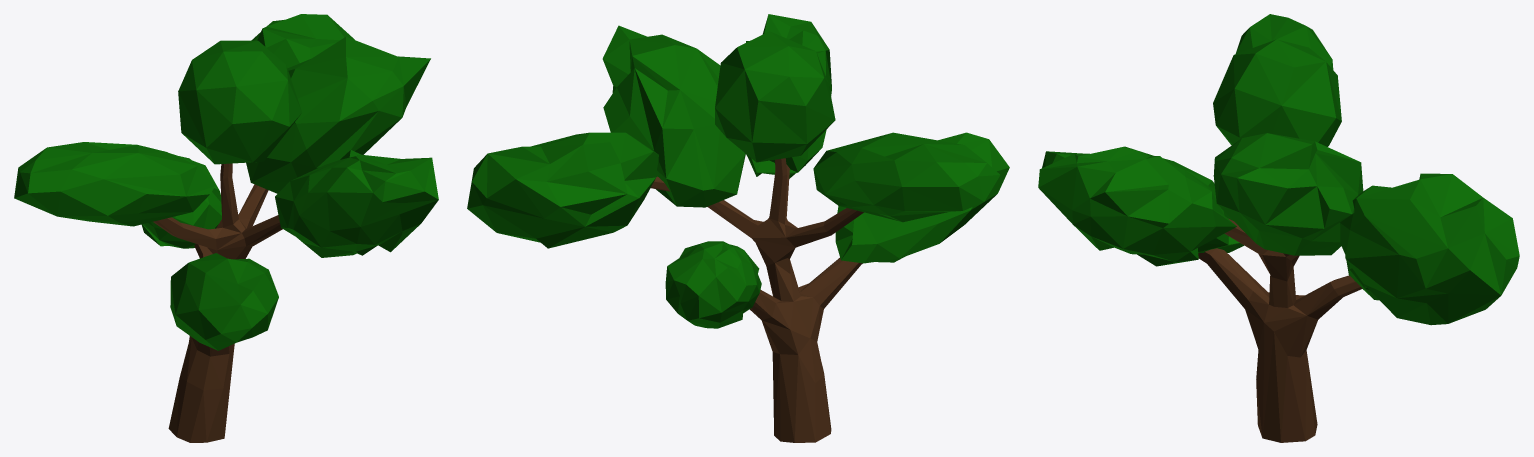
The model's file is Tree1.fbx.
The picture shows the model from 3 angles, left to right: view 1: azimuth 30°, elevation 25°; view 2: azimuth 150°, elevation 25°; view 3: azimuth 270°, elevation 25°; orthographic projection. The views are drawn at different scales.
Visible parts, largest first — view 1: Icosphere.001, Icosphere, Sphere, Icosphere.002, Tree, Icosphere.004, Icosphere.003, Sphere.001; view 2: Icosphere.003, Icosphere.001, Tree, Icosphere, Icosphere.002, Sphere.001, Icosphere.004, Sphere; view 3: Icosphere.003, Sphere, Icosphere.001, Tree, Icosphere.002, Icosphere, Icosphere.004.
Part boxes in pixels (box(x1,y1,x2,y2)): Icosphere.001: box(246, 37, 430, 193); Icosphere: box(14, 142, 214, 226); Sphere: box(275, 150, 438, 257); Icosphere.002: box(178, 40, 301, 164); Tree: box(153, 163, 282, 442); Icosphere.004: box(170, 253, 278, 350); Icosphere.003: box(251, 14, 354, 68); Sphere.001: box(141, 153, 221, 248); Icosphere.003: box(467, 132, 658, 248); Icosphere.001: box(602, 25, 745, 207); Tree: box(650, 158, 863, 442); Icosphere: box(813, 132, 1000, 222); Icosphere.002: box(715, 31, 835, 162); Sphere.001: box(665, 241, 761, 328); Icosphere.004: box(835, 132, 1009, 263); Sphere: box(746, 14, 831, 178); Icosphere.003: box(1340, 173, 1519, 325); Sphere: box(1038, 146, 1236, 266); Icosphere.001: box(1213, 133, 1363, 255); Tree: box(1198, 218, 1362, 442); Icosphere.002: box(1213, 39, 1341, 146); Icosphere: box(1235, 14, 1333, 69); Icosphere.004: box(1042, 151, 1243, 252).
Bounding box in the file's own units: 1687 × 1439 × 1560.
1 material, 1 textured.
